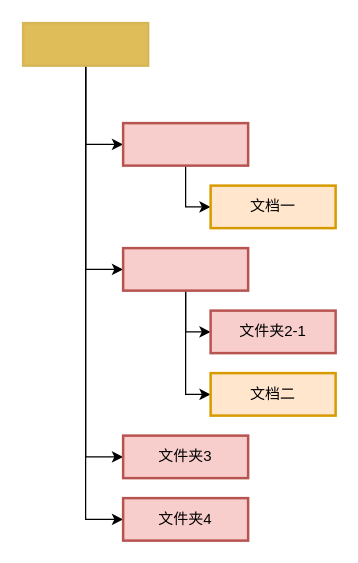
This 358x563 diagram has some shape labels left out. Here are the shapes that lost their labels. From the top down, the centre of each, then its label:
[85,43]: 型号产品1
[185,143]: 文件夹1
[185,268]: 文件夹2
